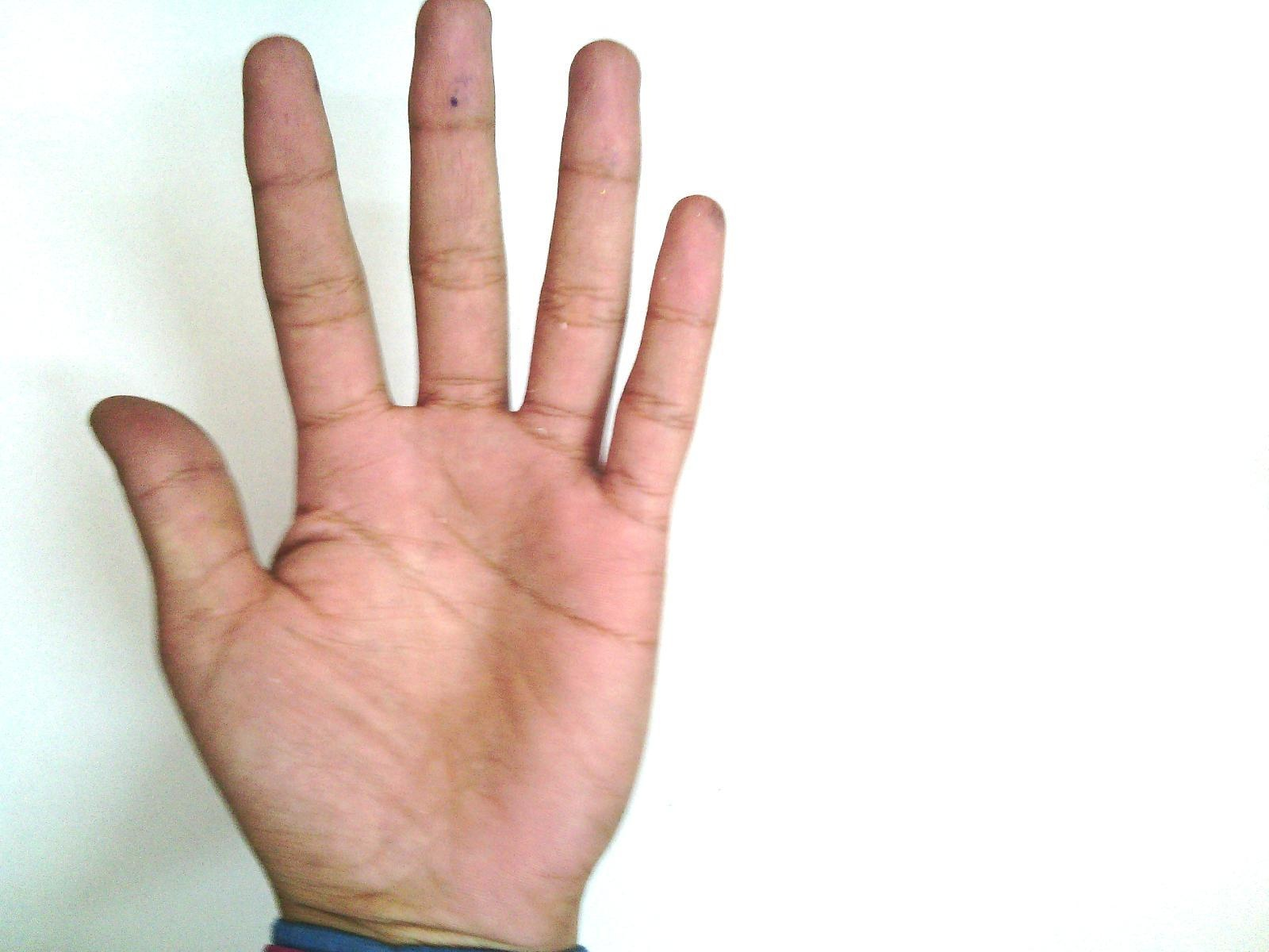open_palm: (87, 4, 730, 947)
